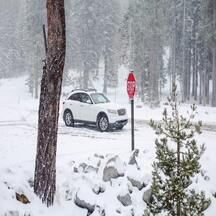Circle: (126, 71, 136, 99)
